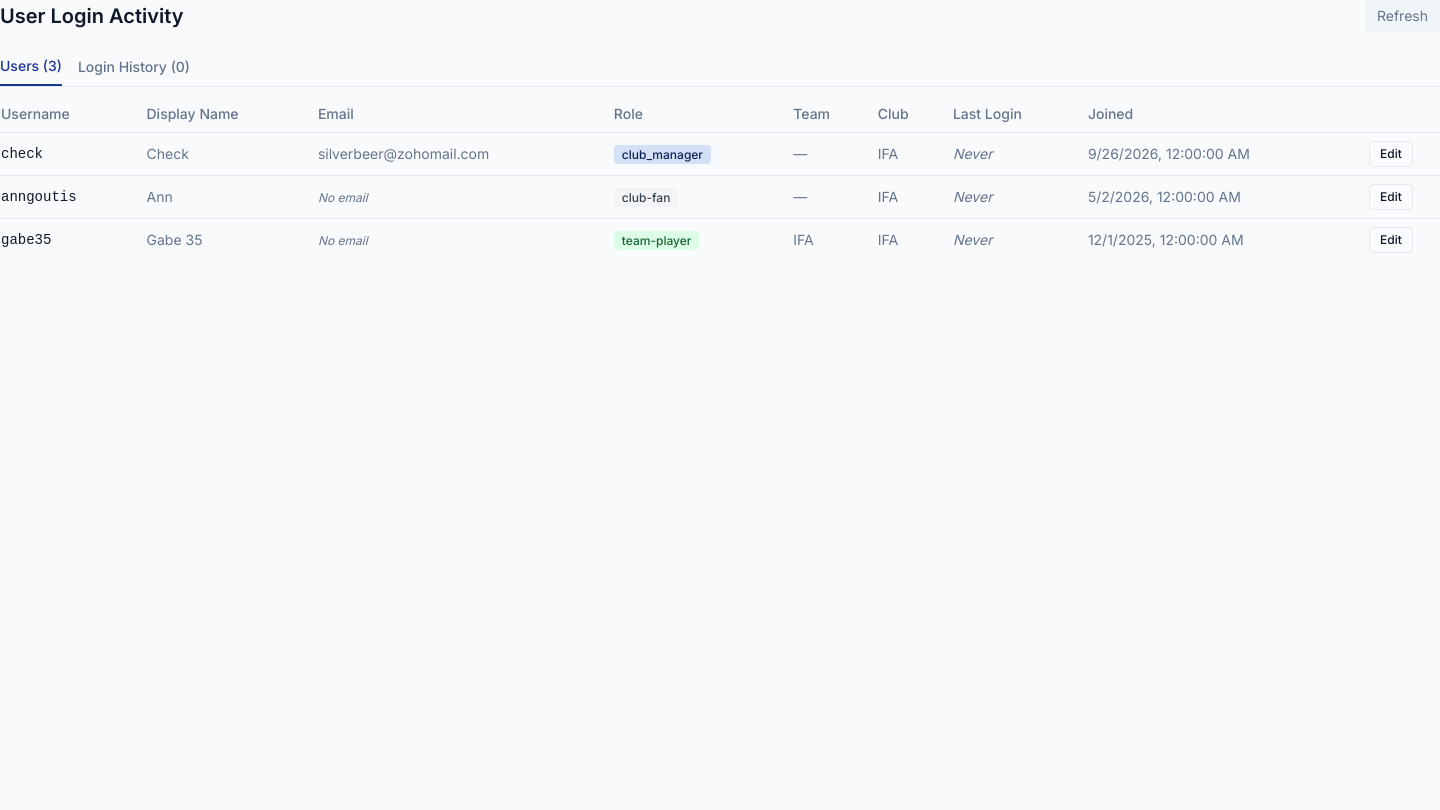
Scenario: AdminUsers — an admin setting an email (SB-1128) › offers an Email field in the editor
The width and height of the screenshot is (1440, 810).
What coordinates should you click on to do the following:
click the button "Edit" in the row of "silverbeer@zohomail.com"
I would click on:
 (1391, 154)
Its box is [1369,141,1413,167].
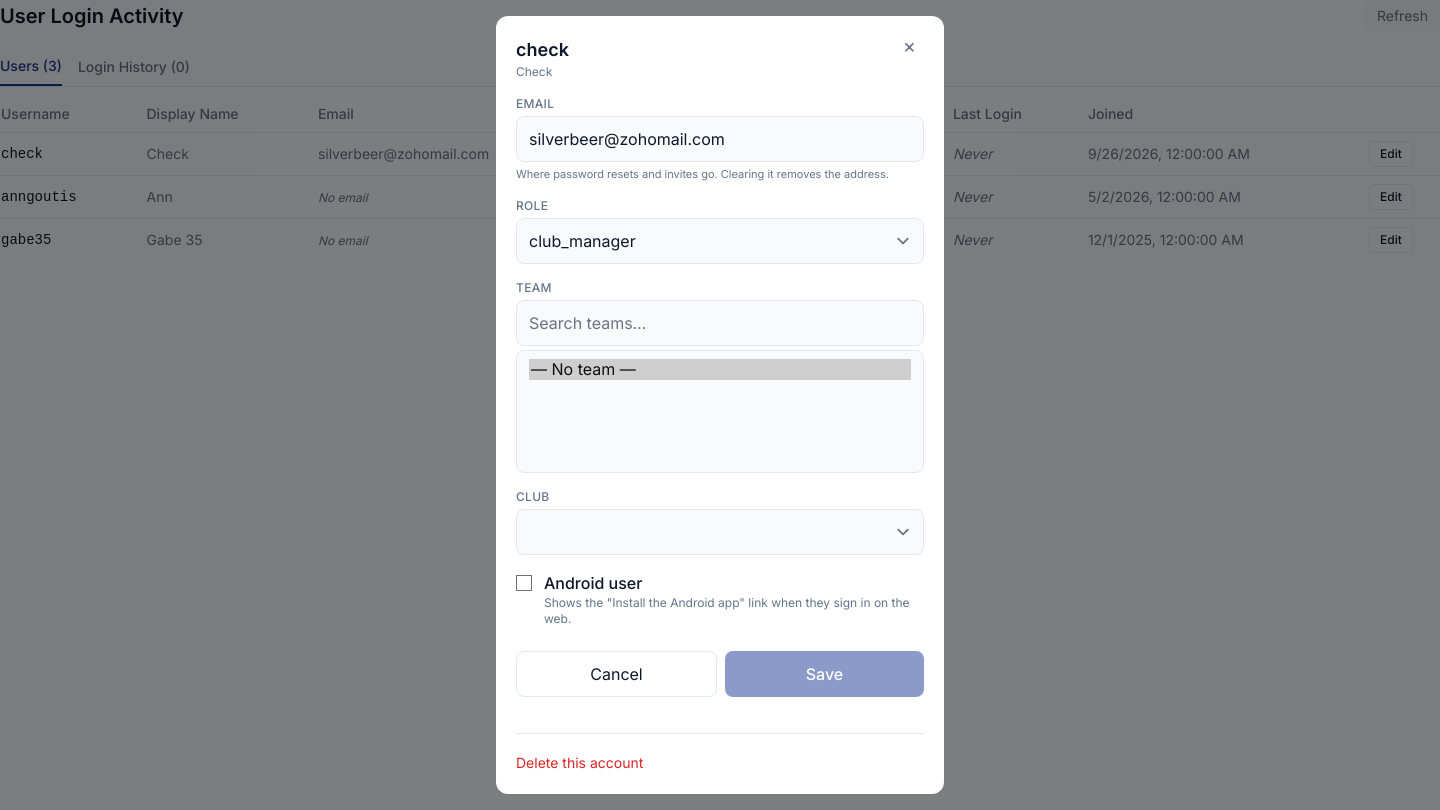
Expected: the field with test id "edit-email" is shown, [516,116,924,162]
